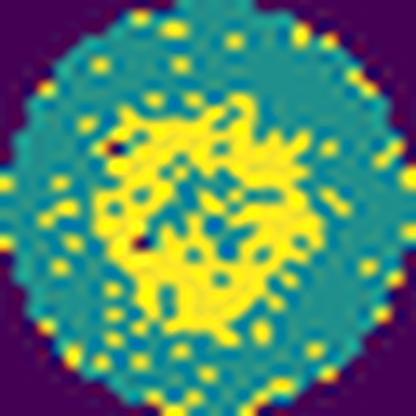Donut: (72, 104, 333, 346)
